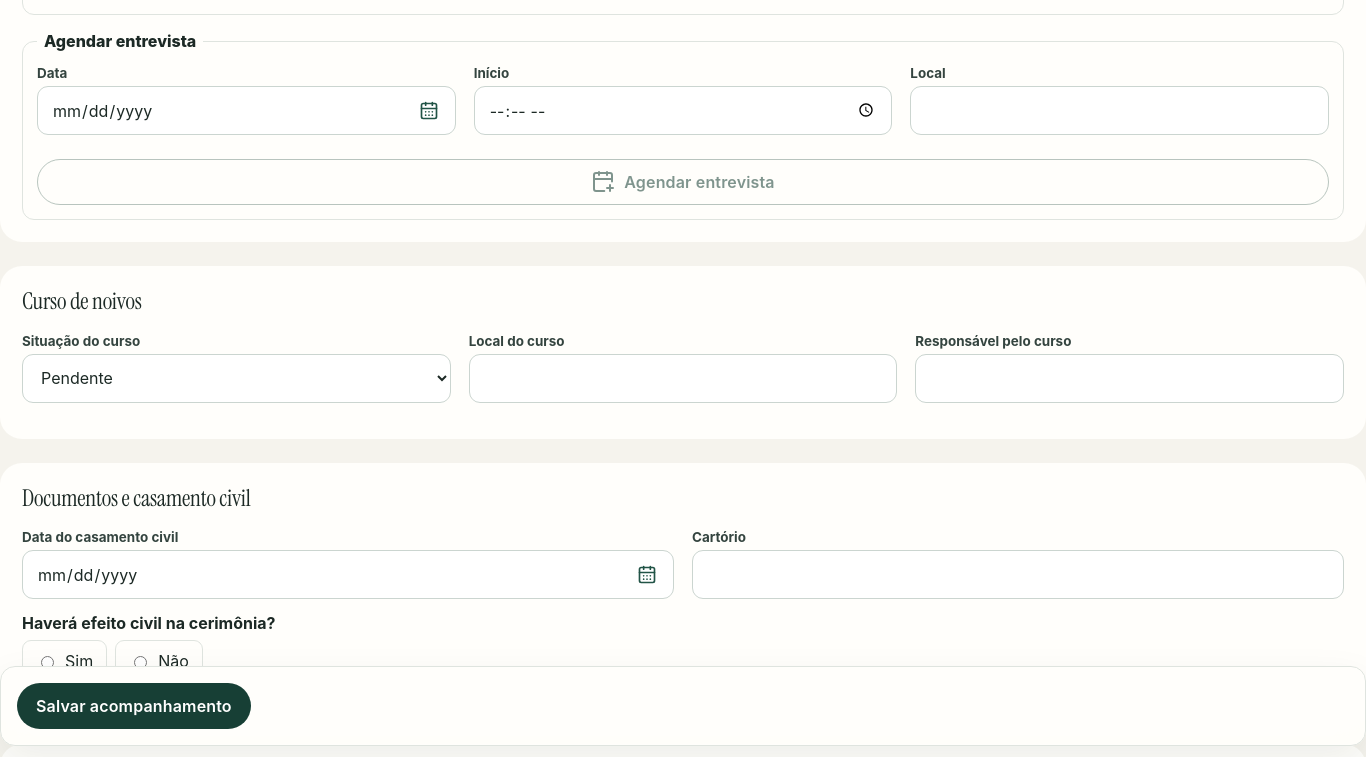
Test case: página do acompanhamento › mudar o curso muda a resposta da quinta pergunta
This screenshot has width=1366, height=757.
(page scrolled)
Select "Em andamento" in the dropdown labelled "Situação do curso" at (236, 378), box [22,354,451,403]
(page scrolled)
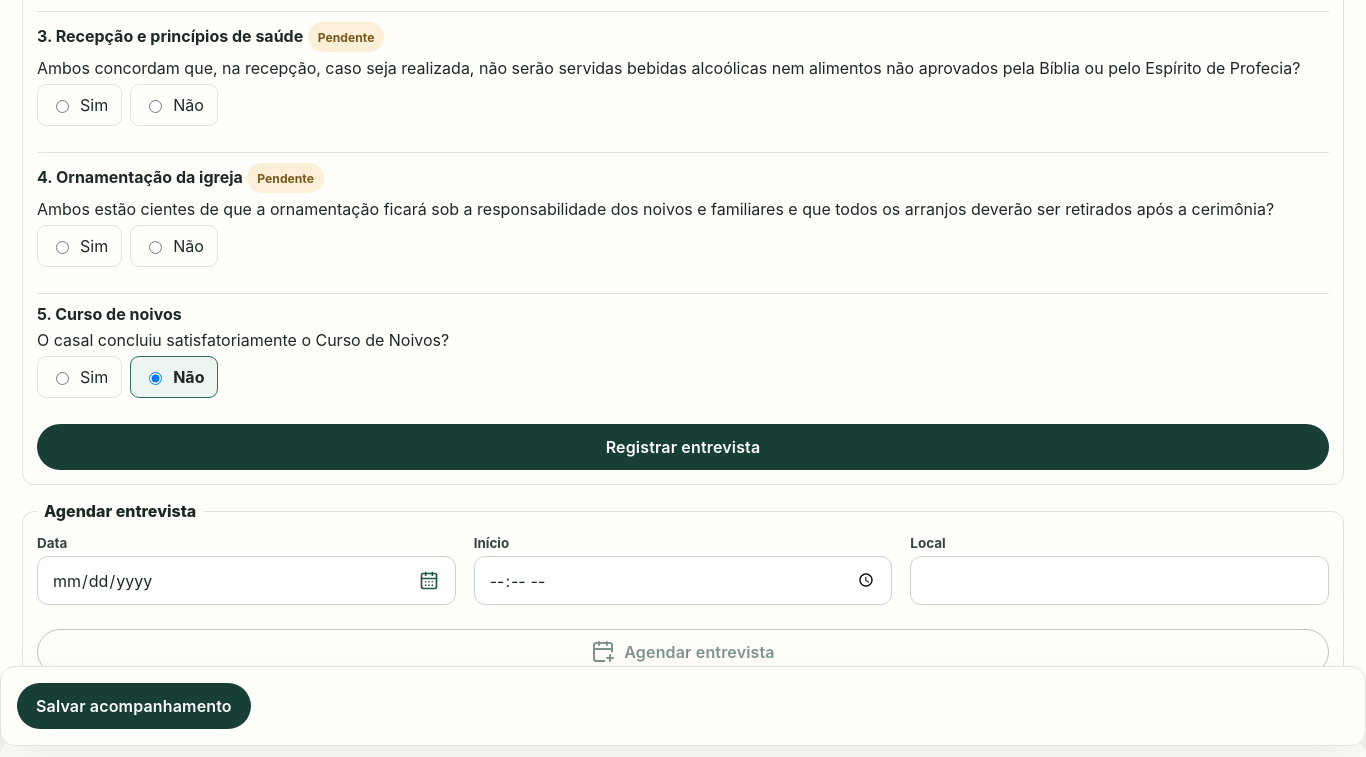
Now the 3rd radio button labelled "Não" is checked, box [149,372,162,385]
